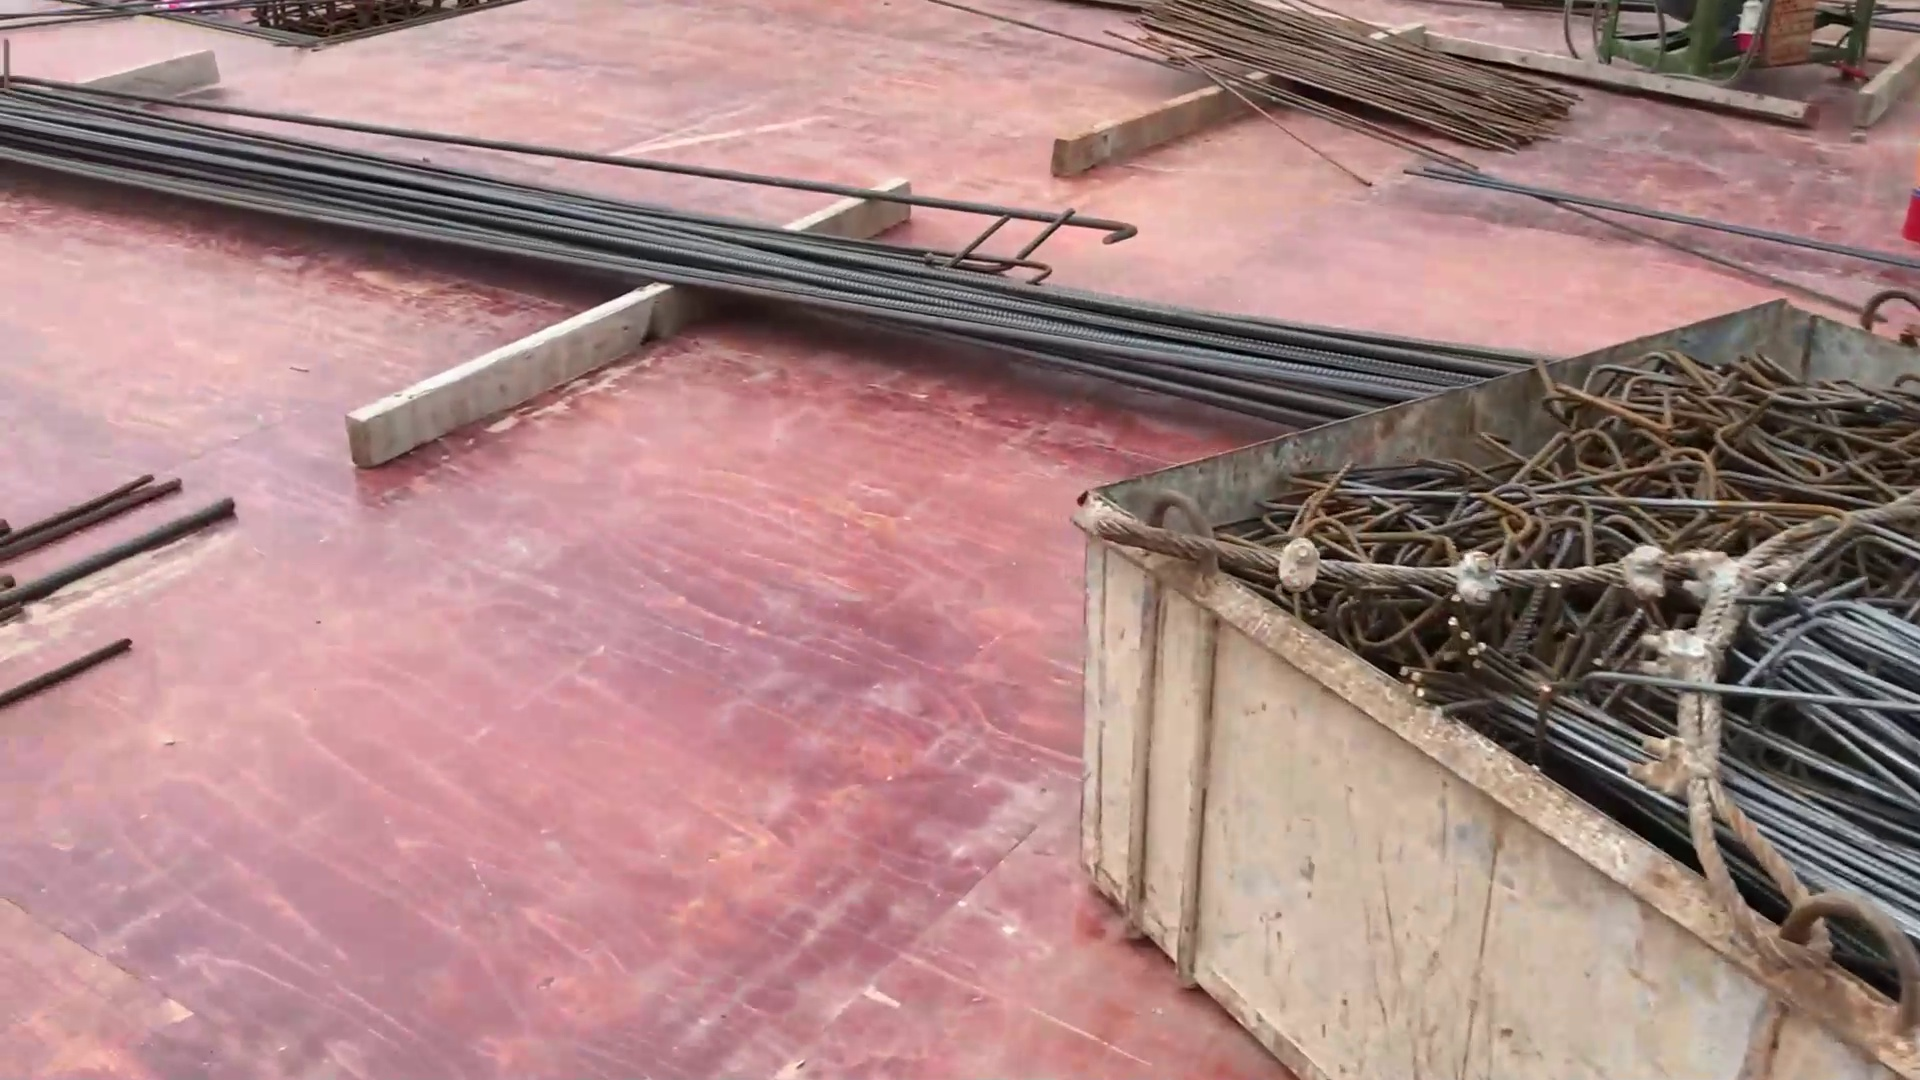hopper: (1062, 262, 1919, 1080)
rebar: (8, 51, 1575, 425)
